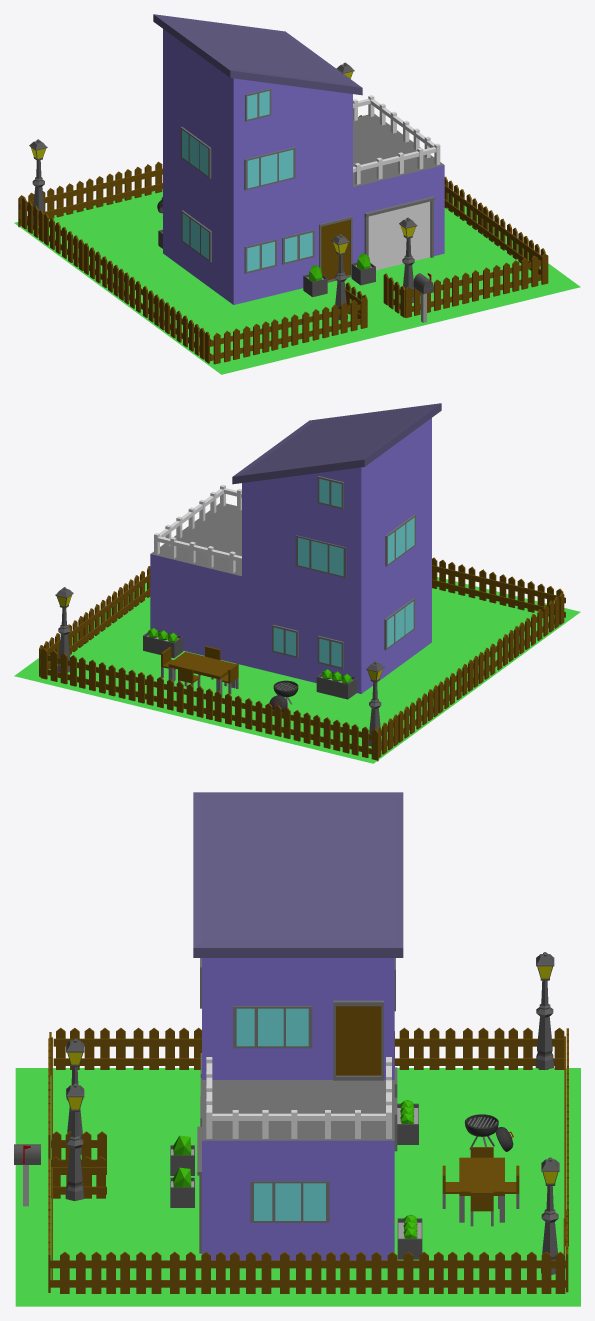
3 renders of one model, top to bottom at view 1: azimuth 30°, elevation 25°; view 2: azimuth 150°, elevation 25°; view 3: azimuth 270°, elevation 25°, orthographic. The views are drawn at different scales.
Parts seen in each view (by area): view 1: ev2; view 2: ev2; view 3: ev2.
Boxes of the visible parts, x1,y1,x2,y2 form: ev2: (14, 14, 580, 374); ev2: (14, 403, 580, 763); ev2: (14, 792, 580, 1306).
Size of the model in its own units: 26.49 by 16.93 by 26.57.
